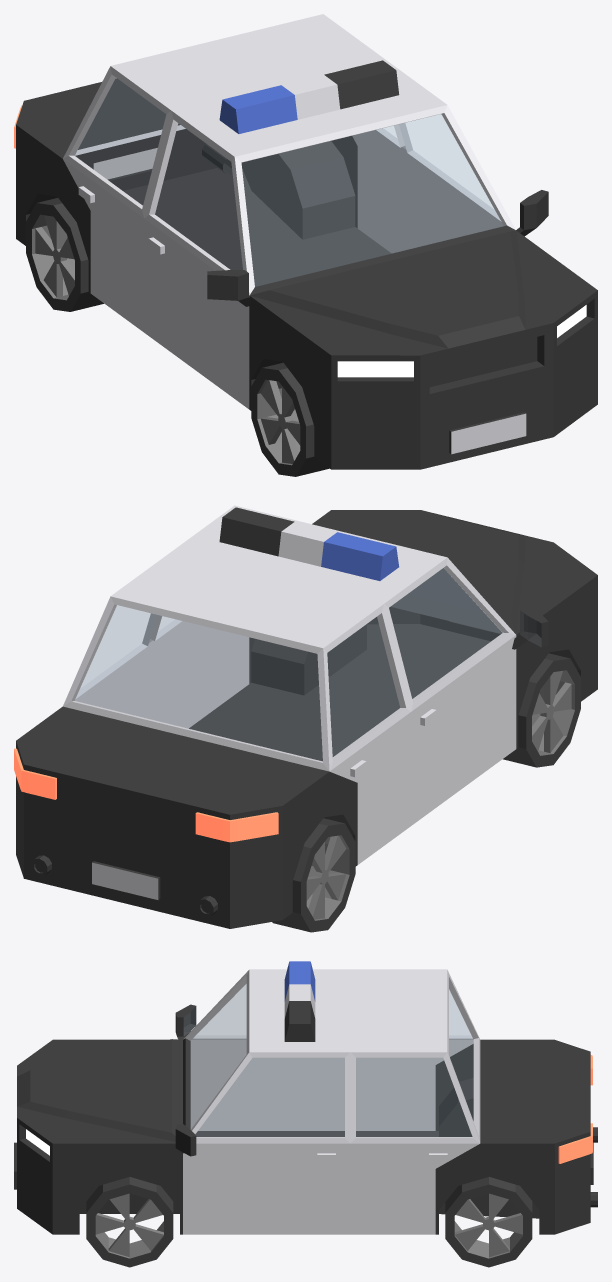
File: police_sedan.glb
3 views of the same model, one above another, from view 1: azimuth 30°, elevation 25°; view 2: azimuth 150°, elevation 25°; view 3: azimuth 270°, elevation 25° (orthographic). The views are drawn at different scales.
Parts seen in each view (by area): view 1: Police Sedan, Police Sedan wheel front right, Police Sedan wheel rear right; view 2: Police Sedan, Police Sedan wheel rear right, Police Sedan wheel front right; view 3: Police Sedan, Police Sedan wheel front left, Police Sedan wheel rear left.
Boxes of the visible parts, bbox=[...] form: Police Sedan: bbox=[14, 14, 597, 469]; Police Sedan wheel front right: bbox=[251, 362, 329, 476]; Police Sedan wheel rear right: bbox=[26, 198, 103, 311]; Police Sedan: bbox=[14, 505, 597, 928]; Police Sedan wheel rear right: bbox=[272, 818, 355, 932]; Police Sedan wheel front right: bbox=[503, 653, 580, 767]; Police Sedan: bbox=[14, 961, 597, 1234]; Police Sedan wheel front left: bbox=[86, 1177, 173, 1267]; Police Sedan wheel rear left: bbox=[445, 1177, 532, 1267].
Size of the model in its own units: 2.81 by 2.19 by 5.23.
